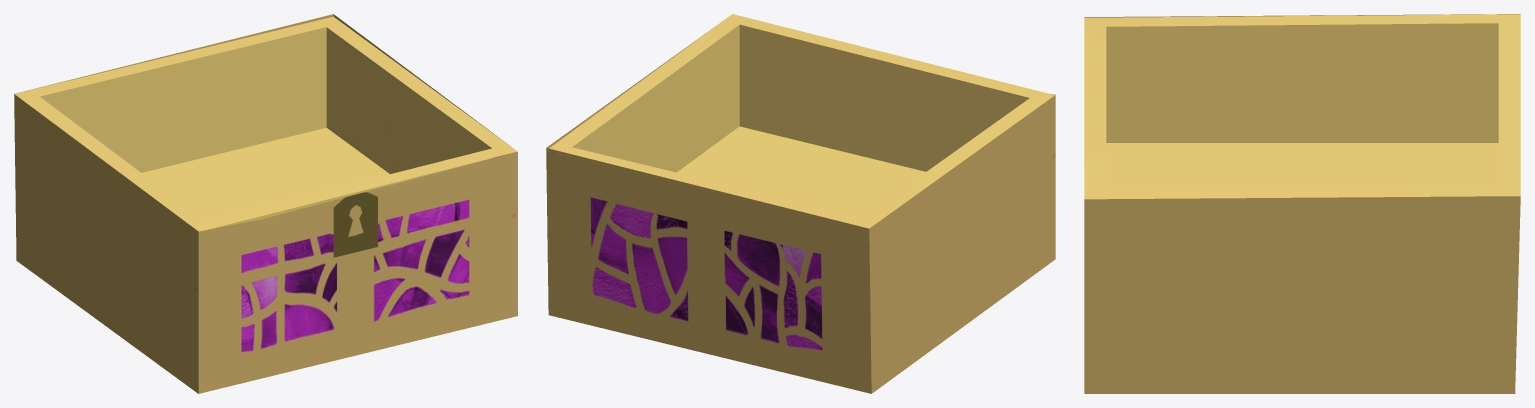
The model's file is chestBottom4Compressed.glb.
3 renders of one model, left to right at view 1: azimuth 30°, elevation 25°; view 2: azimuth 150°, elevation 25°; view 3: azimuth 270°, elevation 25°, orthographic. The views are drawn at different scales.
Visible parts, largest first — view 1: Cube.003; view 2: Cube.003; view 3: Cube.003.
Part boxes in pixels (box(x1,y1,x2,y2)): Cube.003: box(14, 14, 517, 393); Cube.003: box(546, 14, 1055, 393); Cube.003: box(1084, 14, 1520, 393).
Size of the model in its own units: 1 by 0.5 by 1.
Materials: 3 (1 with a texture image).
